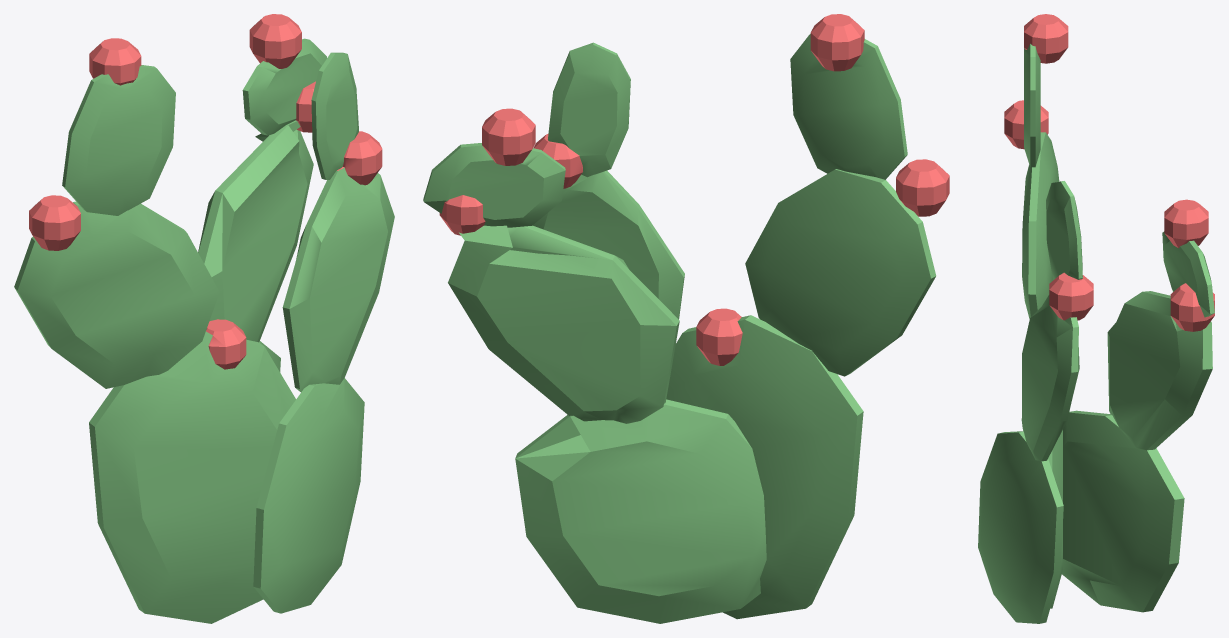
The model's file is Cactus_02.fbx.
The picture shows the model from 3 angles, left to right: view 1: azimuth 30°, elevation 25°; view 2: azimuth 150°, elevation 25°; view 3: azimuth 270°, elevation 25°; orthographic projection. The views are drawn at different scales.
Parts seen in each view (by area): view 1: Cactus_13; view 2: Cactus_13; view 3: Cactus_13.
Boxes of the visible parts, bbox=[...] form: Cactus_13: bbox=[14, 14, 394, 623]; Cactus_13: bbox=[423, 14, 949, 623]; Cactus_13: bbox=[978, 14, 1214, 623].
Size of the model in its own units: 134 by 189 by 76.18.
